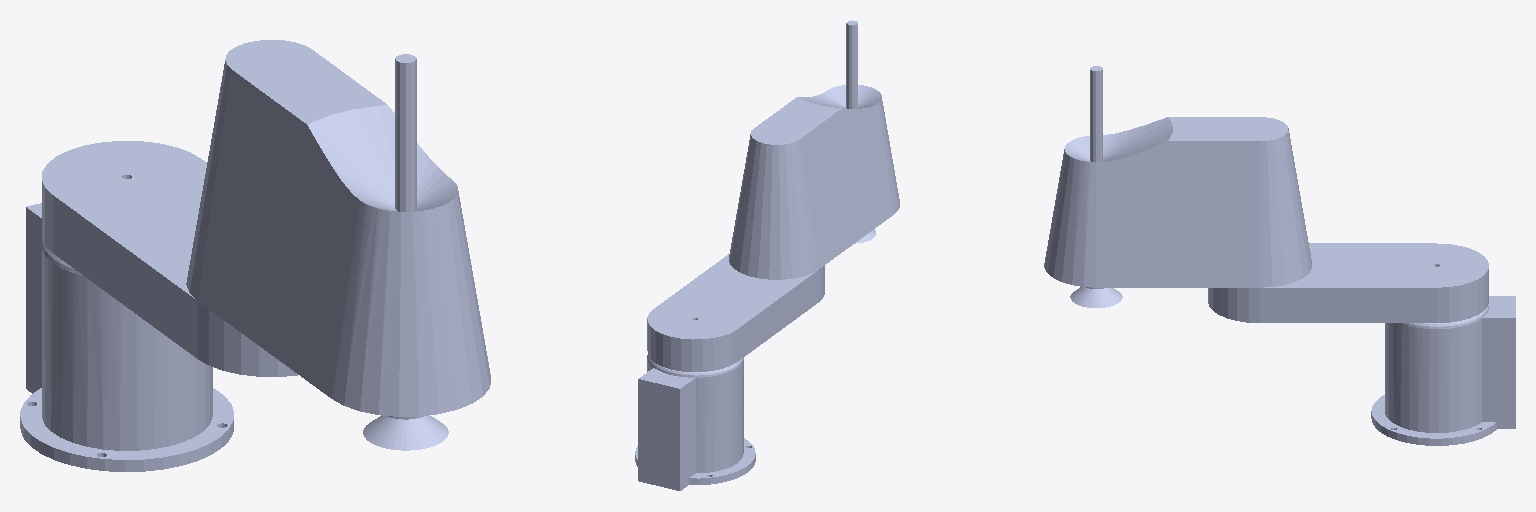
robot.urdf — ros_scara_v8:
<?xml version="1.0" encoding="utf-8" ?>
<!-- This URDF was automatically created by SolidWorks to URDF Exporter! Originally created by [author] ([email redacted]) 
     Commit Version: 1.6.0-4-g7f85cfe  Build Version: 1.6.7995.38578
     For more information, please see http://wiki.ros.org/sw_urdf_exporter -->
<robot name="ros_scara_v8">
    <link name="base_link">
        <inertial>
            <origin xyz="1.64102215790356E-18 0.0364446430066808 0.0925448046399389" rpy="0 0 0" />
            <mass value="2.6567611957561" />
            <inertia ixx="0.0168357984591433" ixy="4.82200266194366E-19" ixz="1.50069408169164E-18" iyy="0.0133970218668742" iyz="-0.000395379191915253" izz="0.0107623581223205" />
        </inertial>
        <visual>
            <origin xyz="0 0 0" rpy="0 0 0" />
            <geometry>
                <mesh filename="package://ros_scara_v8/meshes/base_link.STL" />
            </geometry>
            <material name="">
                <color rgba="0.792156862745098 0.819607843137255 0.933333333333333 1" />
            </material>
        </visual>
        <collision>
            <origin xyz="0 0 0" rpy="0 0 0" />
            <geometry>
                <mesh filename="package://ros_scara_v8/meshes/base_link.STL" />
            </geometry>
        </collision>
    </link>
    <link name="link1">
        <inertial>
            <origin xyz="0.135 -1.18507934044397E-17 0.03" rpy="0 0 0" />
            <mass value="3.78894680101771" />
            <inertia ixx="0.00859641966180862" ixy="1.32200727642509E-18" ixz="-4.58196296535307E-19" iyy="0.0516867751103564" iyz="1.27294101185764E-19" izz="0.0580098266915544" />
        </inertial>
        <visual>
            <origin xyz="0 0 0" rpy="0 0 0" />
            <geometry>
                <mesh filename="package://ros_scara_v8/meshes/link1.STL" />
            </geometry>
            <material name="">
                <color rgba="0.792156862745098 0.819607843137255 0.933333333333333 1" />
            </material>
        </visual>
        <collision>
            <origin xyz="0 0 0" rpy="0 0 0" />
            <geometry>
                <mesh filename="package://ros_scara_v8/meshes/link1.STL" />
            </geometry>
        </collision>
    </link>
    <joint name="joint1" type="revolute">
        <origin xyz="0 0 0.1975" rpy="0 0 -1.5708" />
        <parent link="base_link" />
        <child link="link1" />
        <axis xyz="0 0 1" />
        <limit lower="-3.1416" upper="3.1416" effort="300" velocity="3" />
    </joint>
    <link name="link2">
        <inertial>
            <origin xyz="0.119679645871635 -1.01210828955412E-16 0.105947989111426" rpy="0 0 0" />
            <mass value="9.47999512865787" />
            <inertia ixx="0.0493343542842483" ixy="2.57062906447754E-17" ixz="0.00487778045183892" iyy="0.134504349003584" iyz="-1.12084557614262E-18" izz="0.110533397930328" />
        </inertial>
        <visual>
            <origin xyz="0 0 0" rpy="0 0 0" />
            <geometry>
                <mesh filename="package://ros_scara_v8/meshes/link2.STL" />
            </geometry>
            <material name="">
                <color rgba="0.792156862745098 0.819607843137255 0.933333333333333 1" />
            </material>
        </visual>
        <collision>
            <origin xyz="0 0 0" rpy="0 0 0" />
            <geometry>
                <mesh filename="package://ros_scara_v8/meshes/link2.STL" />
            </geometry>
        </collision>
    </link>
    <joint name="joint2" type="continuous">
        <origin xyz="0.27 0 0.05" rpy="0 0 0" />
        <parent link="link1" />
        <child link="link2" />
        <axis xyz="0 0 1" />
        <limit lower="-3.1416" upper="3.1416" effort="200" velocity="3" />
    </joint>
    <link name="link3">
        <inertial>
            <origin xyz="0 2.76777304672324E-16 -0.152880740442008" rpy="0 0 0" />
            <mass value="0.0903207887907068" />
            <inertia ixx="0.00107497738302875" ixy="8.91804097908733E-22" ixz="8.08042713685118E-20" iyy="0.00107497738302875" iyz="1.30058416910138E-20" izz="7.66744957016757E-06" />
        </inertial>
        <visual>
            <origin xyz="0 0 0" rpy="0 0 0" />
            <geometry>
                <mesh filename="package://ros_scara_v8/meshes/link3.STL" />
            </geometry>
            <material name="">
                <color rgba="0.792156862745098 0.819607843137255 0.933333333333333 1" />
            </material>
        </visual>
        <collision>
            <origin xyz="0 0 0" rpy="0 0 0" />
            <geometry>
                <mesh filename="package://ros_scara_v8/meshes/link3.STL" />
            </geometry>
        </collision>
    </link>
    <joint name="joint3" type="continuous">
        <origin xyz="0.25 0 0" rpy="3.1416 0 0" />
        <parent link="link2" />
        <child link="link3" />
        <axis xyz="0 0 1" />
        <limit lower="0" upper="0.25" effort="200" velocity="1" />
    </joint>
    <link name="tool">
        <inertial>
            <origin xyz="0 4.84716480263527E-15 0.0173861724616842" rpy="0 0 0" />
            <mass value="0.0678521800680965" />
            <inertia ixx="2.32022327419396E-05" ixy="2.11318797113156E-21" ixz="7.37140243810216E-22" iyy="2.32022327419396E-05" iyz="3.18177719294624E-21" izz="3.08931138771722E-05" />
        </inertial>
        <visual>
            <origin xyz="0 0 0" rpy="0 0 0" />
            <geometry>
                <mesh filename="package://ros_scara_v8/meshes/tool.STL" />
            </geometry>
            <material name="">
                <color rgba="0.792156862745098 0.819607843137255 0.933333333333333 1" />
            </material>
        </visual>
        <collision>
            <origin xyz="0 0 0" rpy="0 0 0" />
            <geometry>
                <mesh filename="package://ros_scara_v8/meshes/tool.STL" />
            </geometry>
        </collision>
    </link>
    <joint name="joint4" type="fixed">
        <origin xyz="0 0 0.013206" rpy="0 0 0" />
        <parent link="link3" />
        <child link="tool" />
        <axis xyz="0 0 0" />
    </joint>
    <transmission name="trans_joint1">
        <type>transmission_interface/SimpleTransmission</type>
        <joint name="joint1">
            <hardwareInterface>hardware_interface/EffortJointInterface</hardwareInterface>
        </joint>
        <actuator name="joint1_motor">
            <hardwareInterface>hardware_interface/EffortJointInterface</hardwareInterface>
            <mechanicalReduction>1</mechanicalReduction>
        </actuator>
    </transmission>
    <transmission name="trans_joint2">
        <type>transmission_interface/SimpleTransmission</type>
        <joint name="joint2">
            <hardwareInterface>hardware_interface/EffortJointInterface</hardwareInterface>
        </joint>
        <actuator name="joint2_motor">
            <hardwareInterface>hardware_interface/EffortJointInterface</hardwareInterface>
            <mechanicalReduction>1</mechanicalReduction>
        </actuator>
    </transmission>
    <transmission name="trans_joint3">
        <type>transmission_interface/SimpleTransmission</type>
        <joint name="joint3">
            <hardwareInterface>hardware_interface/EffortJointInterface</hardwareInterface>
        </joint>
        <actuator name="joint3_motor">
            <hardwareInterface>hardware_interface/EffortJointInterface</hardwareInterface>
            <mechanicalReduction>1</mechanicalReduction>
        </actuator>
    </transmission>
    <gazebo>
        <plugin name="gazebo_ros_control">
            <robotNamespace>/</robotNamespace>
        </plugin>
    </gazebo>
</robot>

--- Facts derived from the render (not from the file) ---
The picture shows the robot from 3 angles, left to right: view 1: azimuth 30°, elevation 25°; view 2: azimuth 150°, elevation 25°; view 3: azimuth 270°, elevation 25°; orthographic projection.
Model ros_scara_v8 with 5 links and 4 joints (1 revolute, 2 continuous, 1 fixed), rooted at base_link, posed every joint at zero.
Visible links, largest first — view 1: link2, base_link, link1, link3, tool; view 2: link2, base_link, link1, link3; view 3: link2, link1, base_link, link3, tool.
Boxes of the visible links, x1,y1,x2,y2 form: link2: (186,40,490,416); base_link: (20,203,233,471); link1: (42,141,297,376); link3: (395,54,416,211); tool: (363,415,448,450); link2: (729,85,899,279); base_link: (635,355,755,490); link1: (647,254,824,371); link3: (846,20,857,108); link2: (1044,117,1311,287); link1: (1208,243,1488,322); base_link: (1371,296,1515,445); link3: (1090,66,1102,161); tool: (1070,287,1122,307).
Bounding box of the posed robot: 0.1995 × 0.7194 × 0.5893 m (x, y, z).
5 mesh visuals loaded from 5 distinct referenced files (5 binary STL).